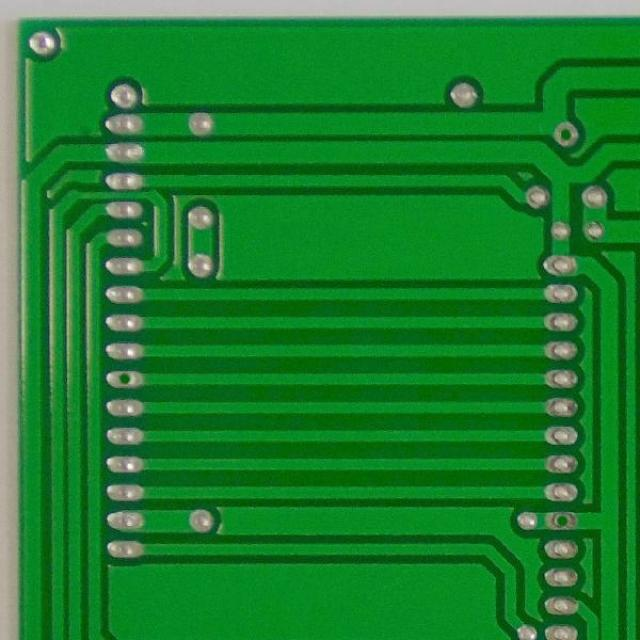missing_hole: (546, 507, 580, 532), (110, 366, 141, 393), (555, 122, 582, 152)
